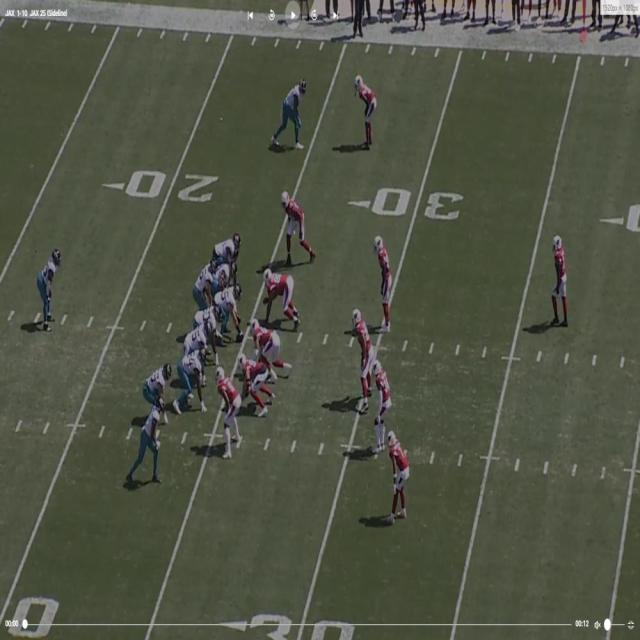center: (220, 280, 243, 335)
db: (388, 431, 412, 521), (374, 235, 392, 331), (355, 77, 378, 142), (552, 235, 566, 320)
lb: (354, 310, 376, 408), (284, 191, 312, 260), (216, 364, 239, 448), (374, 357, 395, 444)
qb: (197, 264, 215, 304)
skill: (276, 76, 306, 140), (177, 345, 209, 404), (43, 251, 61, 328), (141, 399, 162, 461), (142, 363, 172, 403)
